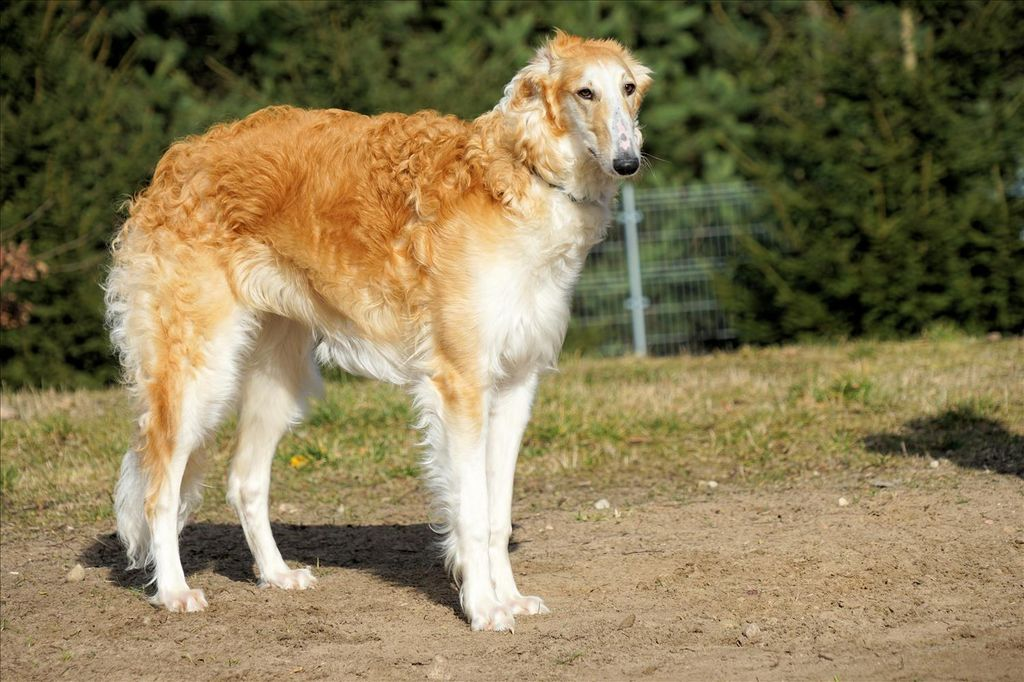borzoi: (92, 30, 673, 635)
